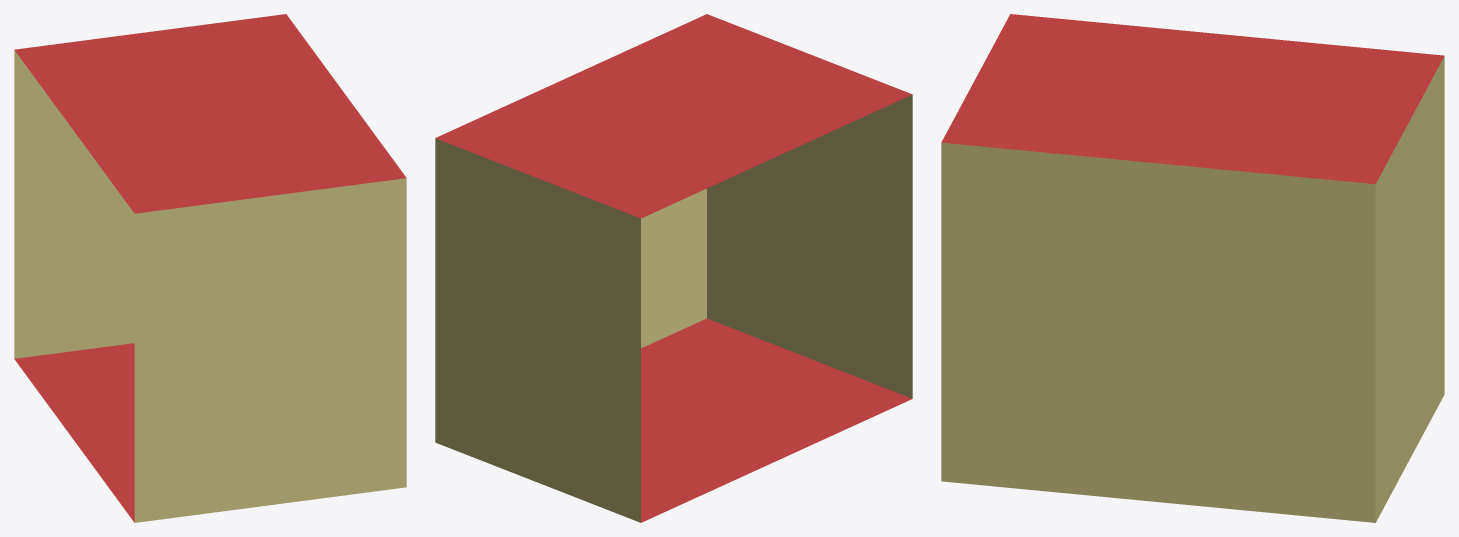
The picture shows the model from 3 angles, left to right: view 1: azimuth 30°, elevation 25°; view 2: azimuth 150°, elevation 25°; view 3: azimuth 270°, elevation 25°; orthographic projection. The views are drawn at different scales.
Visible parts, largest first — view 1: group_4, group_3, group_5; view 2: group_4, group_3, group_5; view 3: group_4, group_3.
Part boxes in pixels (left/top/right/bottom): group_4: left=14, top=50, right=406, bottom=522; group_3: left=14, top=14, right=406, bottom=213; group_5: left=14, top=343, right=134, bottom=522; group_4: left=435, top=94, right=912, bottom=522; group_3: left=435, top=14, right=912, bottom=218; group_5: left=641, top=318, right=912, bottom=522; group_4: left=941, top=56, right=1444, bottom=522; group_3: left=941, top=14, right=1444, bottom=184.
Bounding box in the file's own units: 5.32 × 6.65 × 4.94.
